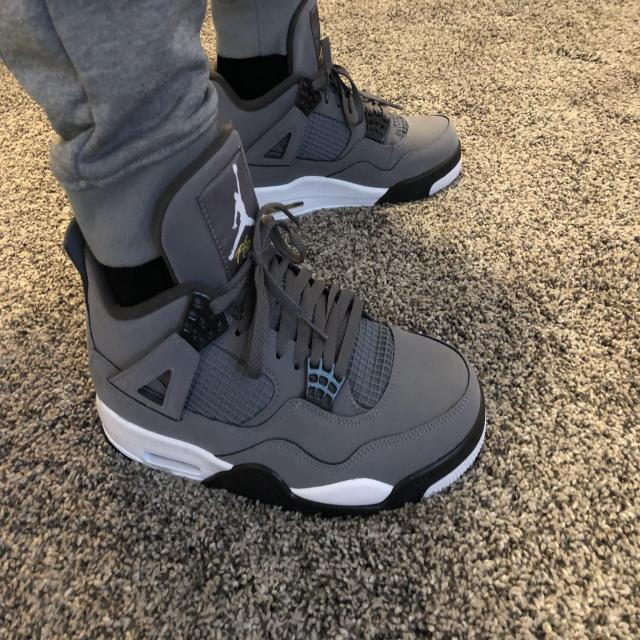shoe: (50, 112, 527, 536), (174, 0, 473, 232)
